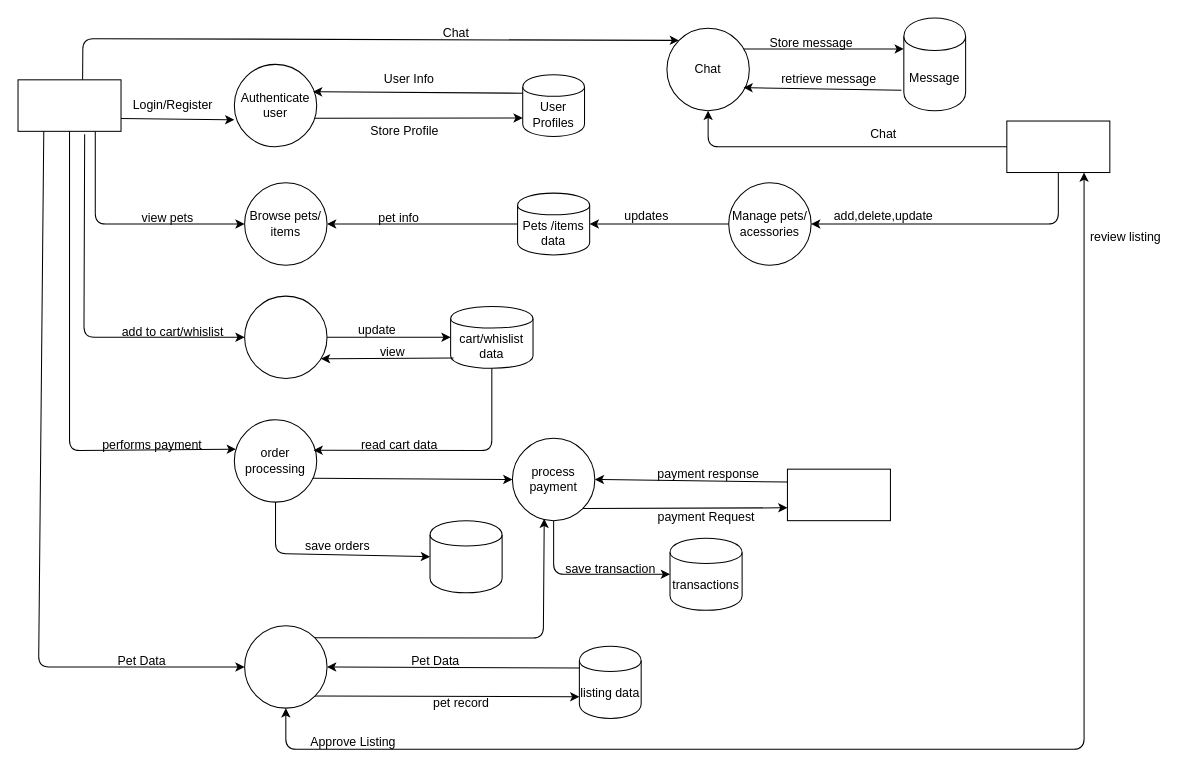
The diagram is 1190 pixels wide and 777 high, and some of its shapes have lost their labels. The shapes that lost their labels are listed below. From the top down, each one's box as (x1, y1, x2, y2) in pixels, then its label:
(17, 79, 121, 131): User/Customer
(1006, 120, 1110, 173): Admin
(244, 295, 327, 379): manage carts/ whislist
(786, 468, 890, 521): Esewa Gateway
(429, 520, 502, 593): orders
(244, 625, 327, 708): Manage pet listing
